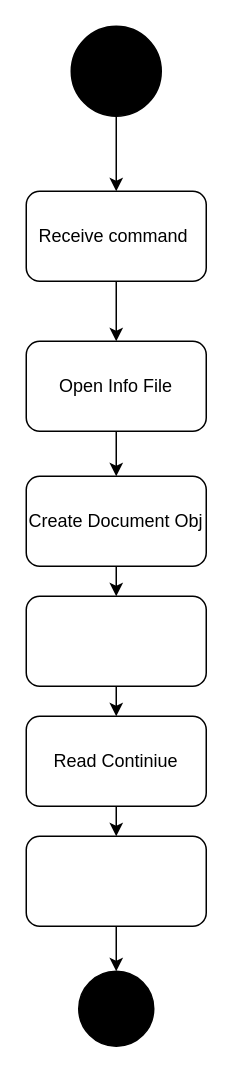
This 233x1073 diagram has some shape labels left out. The centre of each missing label's shape, as x and y in pixels:
Add Document to Search Engine: point (115, 640)
Close Info File: point (115, 880)
